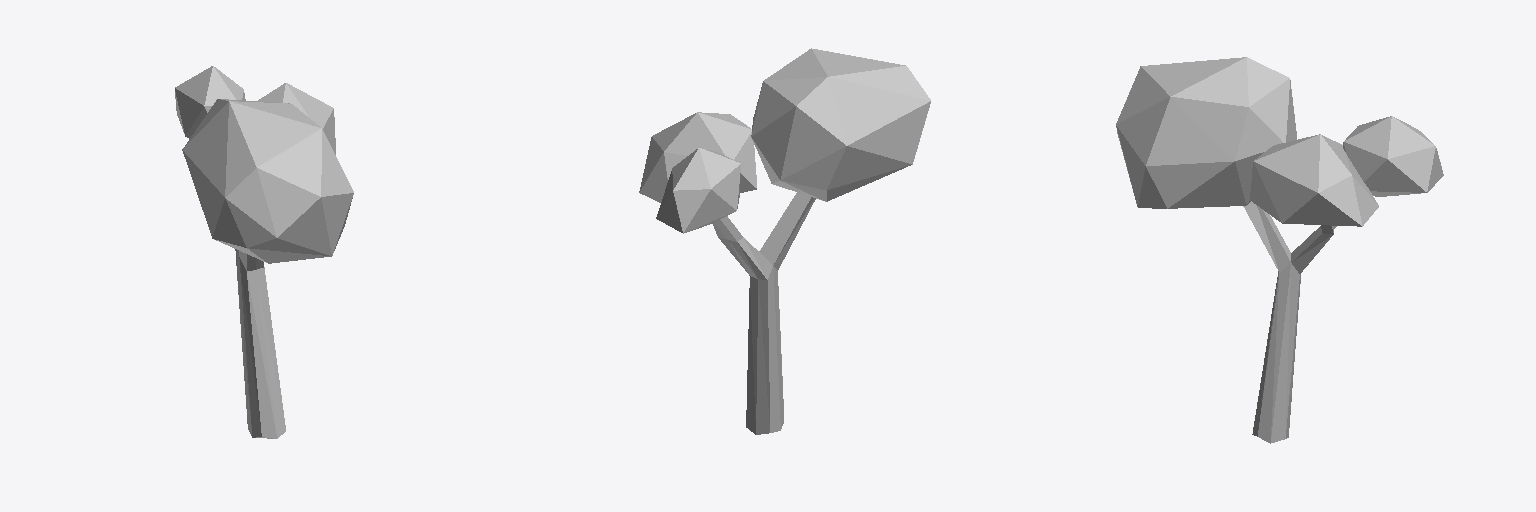
Rendered from CloudLikeTree1.obj.
The picture shows the model from 3 angles: view 1: azimuth 30°, elevation 25°; view 2: azimuth 150°, elevation 25°; view 3: azimuth 270°, elevation 25°; orthographic projection.
Visible parts, largest first — view 1: Cloudlike_Tree_1_Icosphere; view 2: Cloudlike_Tree_1_Icosphere; view 3: Cloudlike_Tree_1_Icosphere.
Part boxes in pixels (bbox=[...]): Cloudlike_Tree_1_Icosphere: bbox=[175, 66, 353, 438]; Cloudlike_Tree_1_Icosphere: bbox=[639, 48, 930, 434]; Cloudlike_Tree_1_Icosphere: bbox=[1116, 57, 1443, 443].
Size of the model in its own units: 2.27 by 3.96 by 3.31.